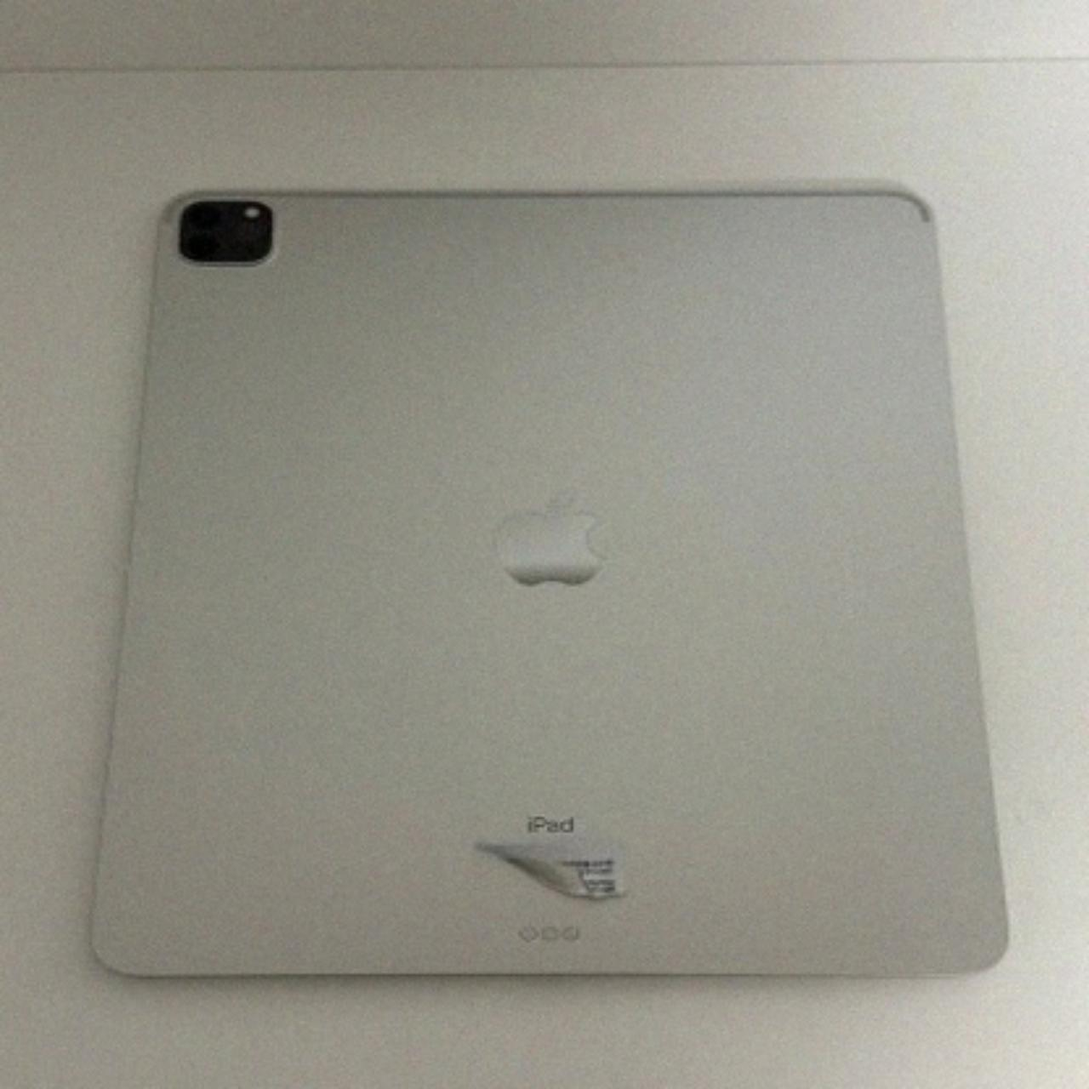Tablet_PC: (74, 178, 1029, 1010)
